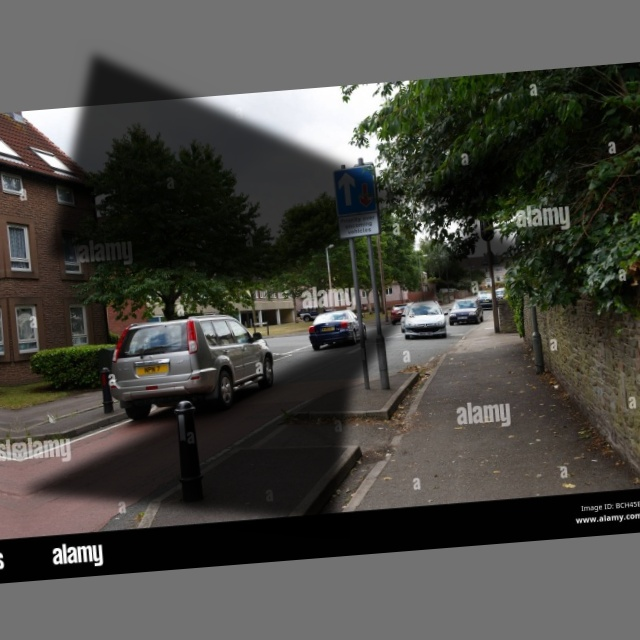Priority_for_Oncoming_Traffic: (333, 165, 379, 215)
